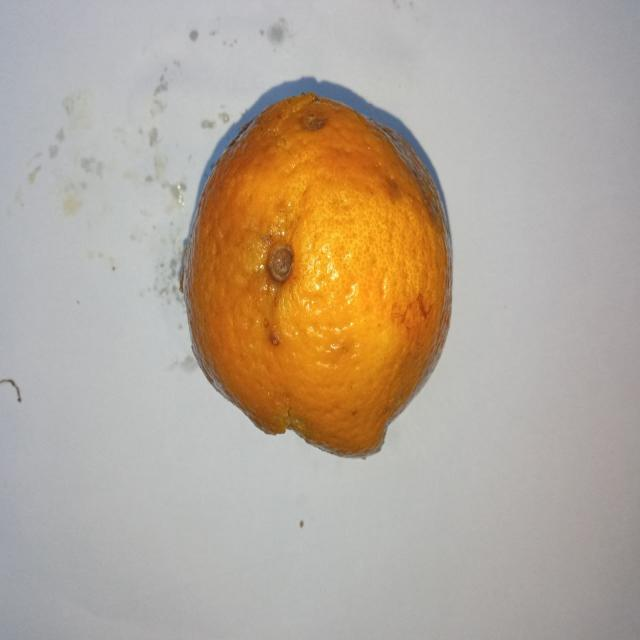rotten_orange: (182, 92, 450, 456)
